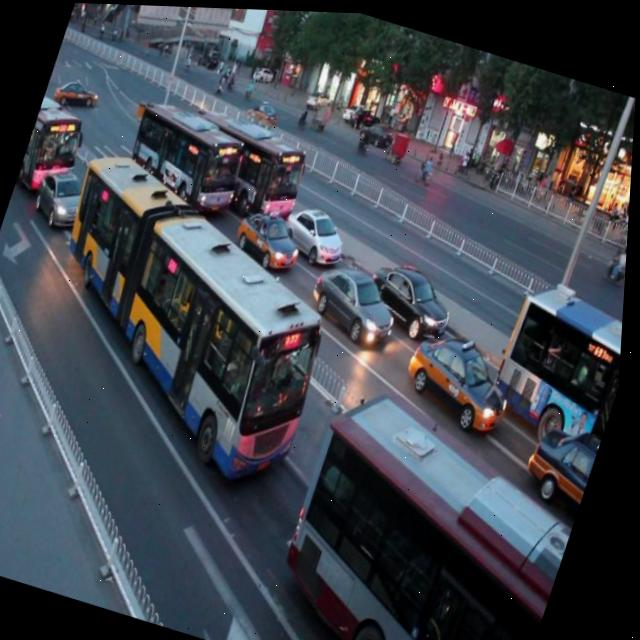car: (393, 322, 526, 446), (299, 252, 407, 354), (360, 252, 464, 346), (524, 407, 610, 501), (226, 196, 310, 278), (273, 193, 354, 274), (30, 163, 97, 233)
van: (5, 137, 371, 495), (258, 376, 602, 640), (485, 271, 628, 444), (114, 87, 258, 228), (175, 97, 320, 230), (18, 82, 95, 191)
